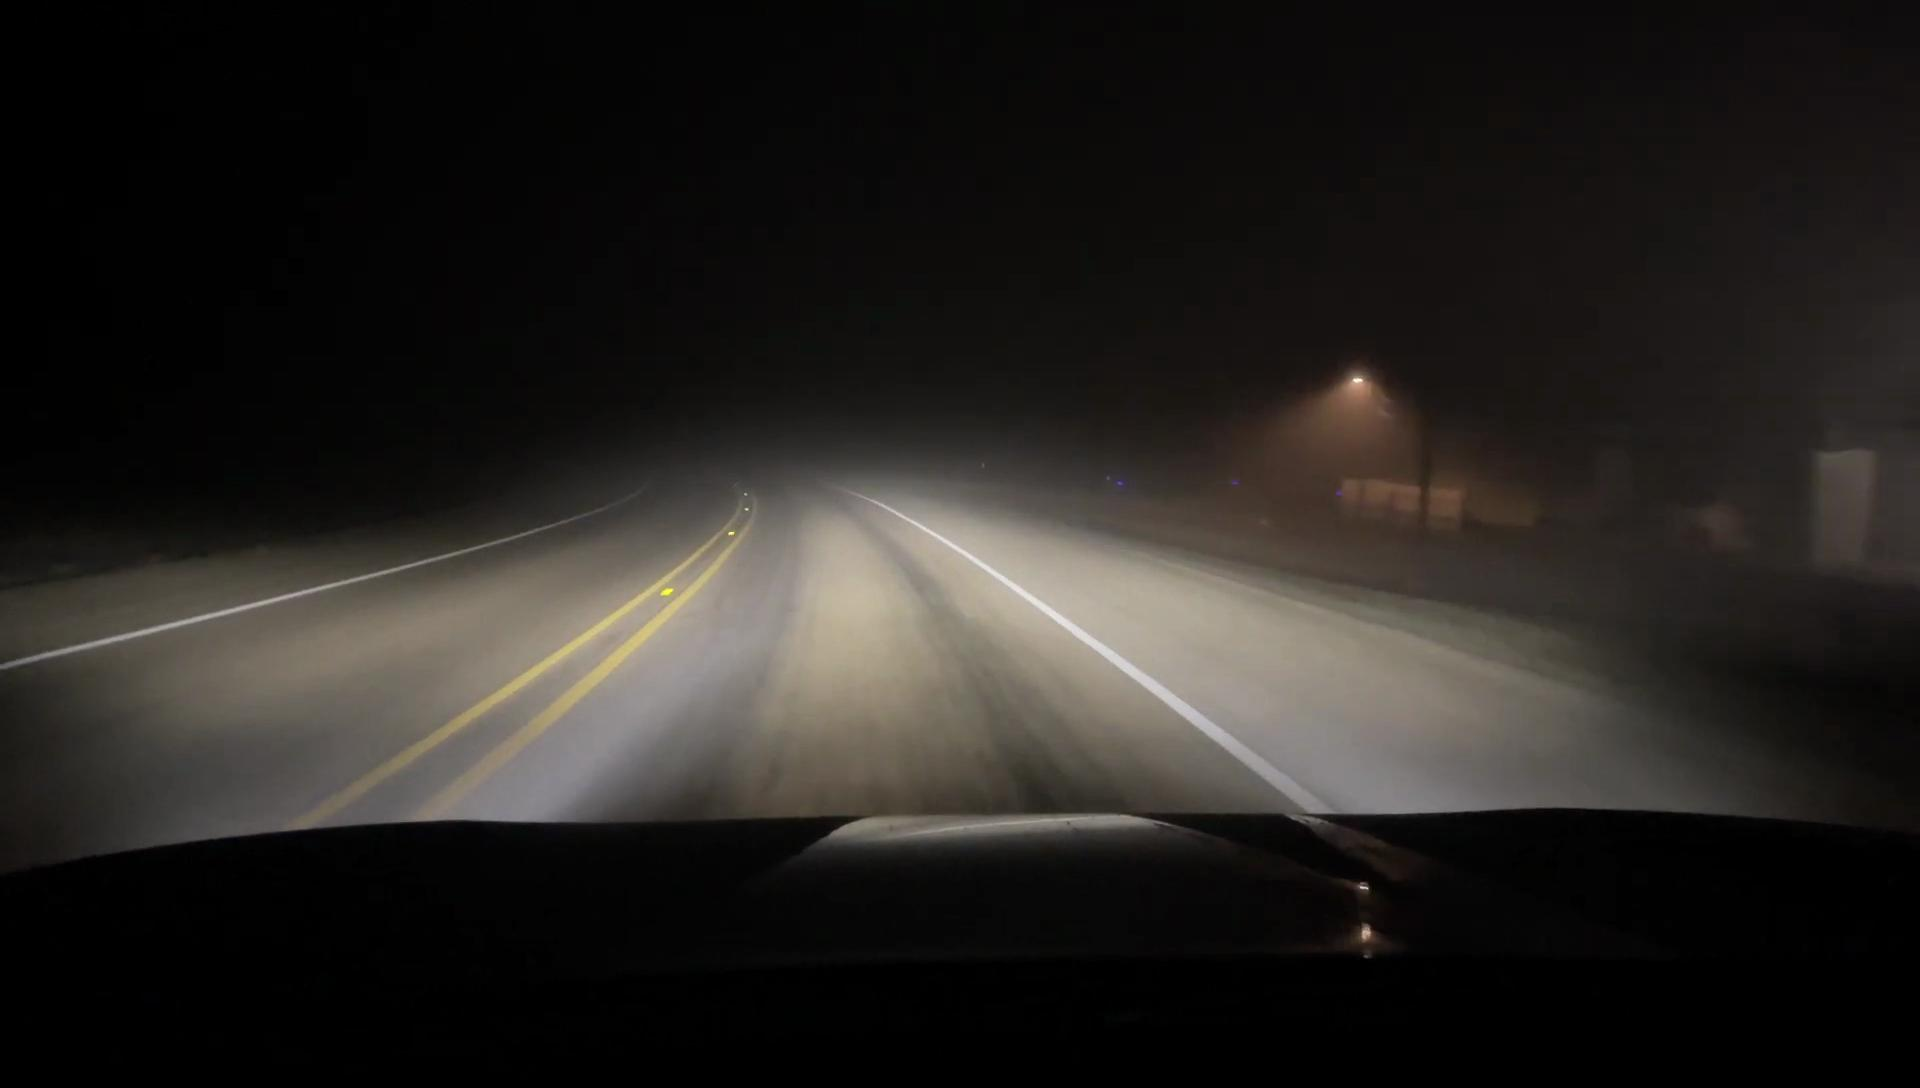road-lanes: (443, 481, 1300, 808)
